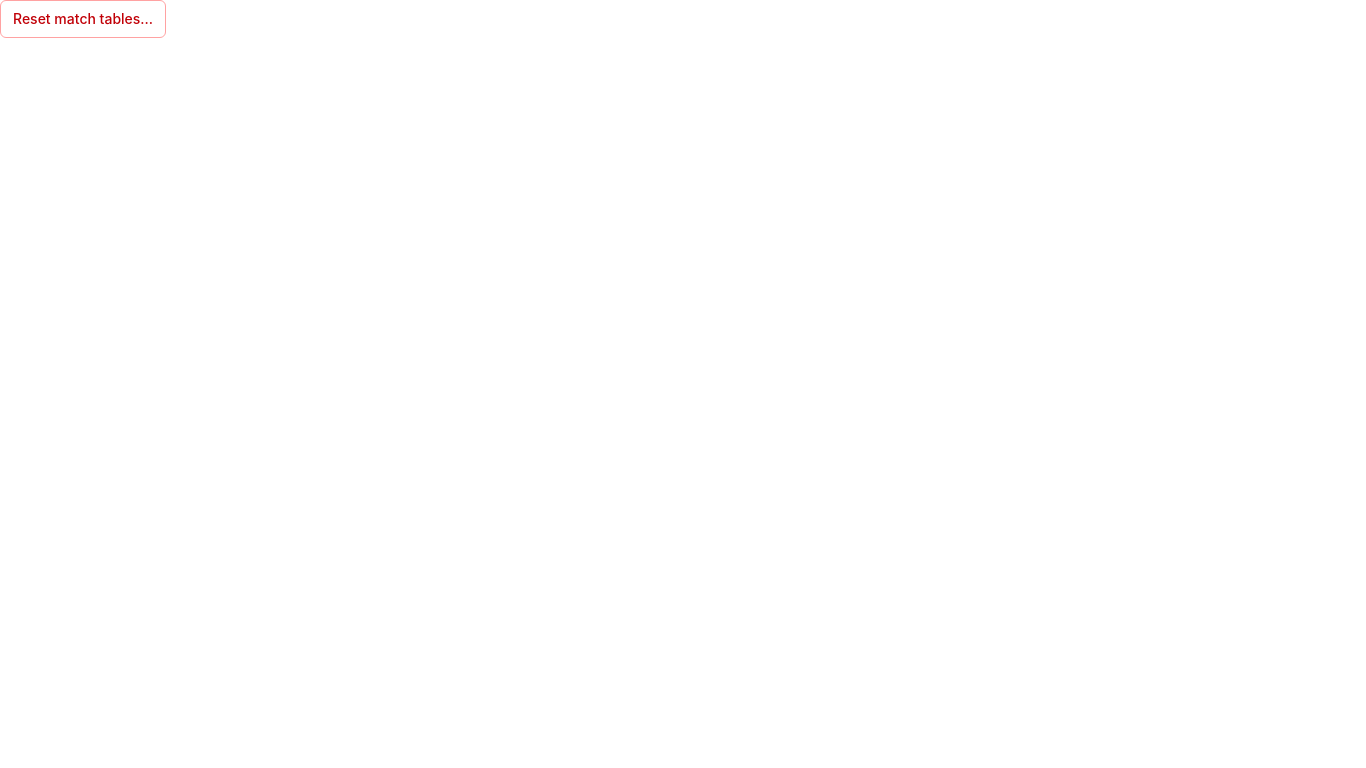
Test: ResetMatchTables › reports a reset failure inside the dialog
The width and height of the screenshot is (1366, 768).
What coordinates should you click on to do the following:
click the button "Reset match tables…"
I would click on:
 (83, 19)
Its box is [0,0,166,38].
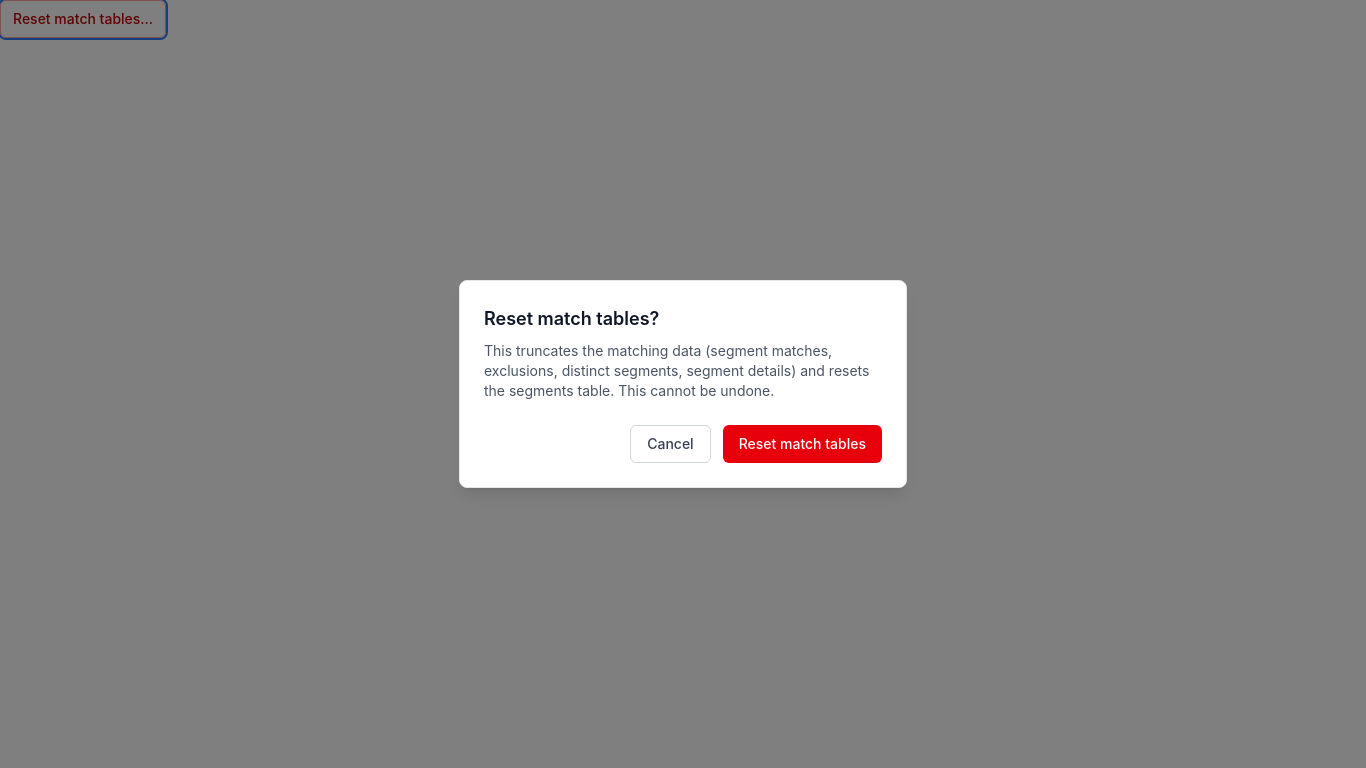
What coordinates should you click on to do the following:
click the button "Reset match tables"
I would click on:
 (802, 444)
Its box is [723,425,882,463].
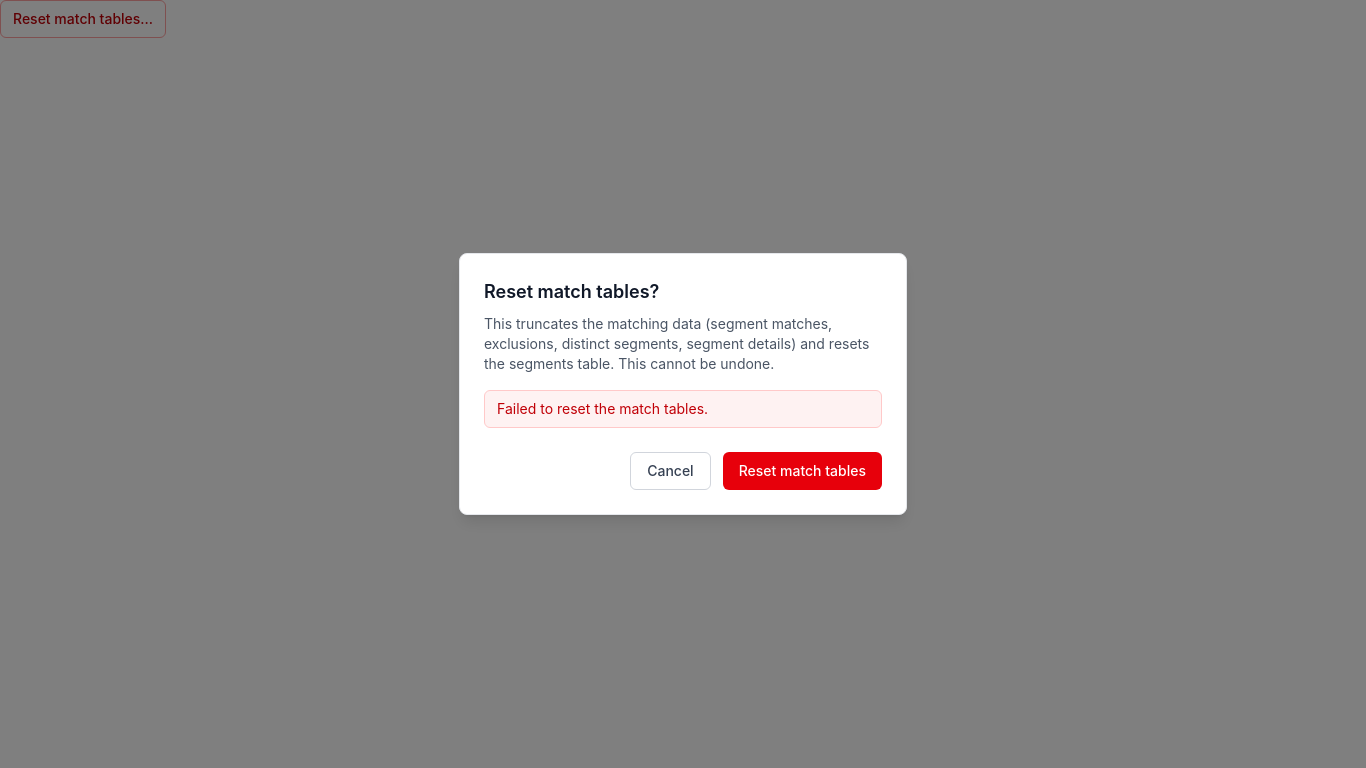
Result: the dialog is shown
Result: the message reads "Failed to reset the match tables." at [497,400,708,417]
